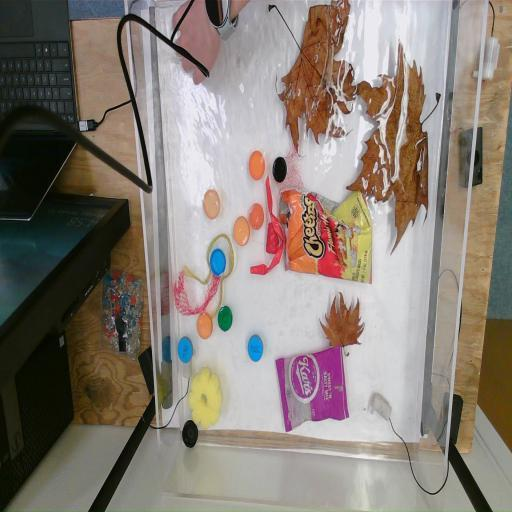Bottle Cap: (200, 190, 222, 222), (248, 150, 265, 180), (233, 216, 250, 246), (196, 312, 213, 340), (248, 202, 264, 230), (247, 334, 263, 362), (218, 305, 234, 333), (182, 420, 198, 448), (178, 336, 192, 362), (272, 158, 286, 184), (212, 251, 226, 276)
Cone Cap: (268, 224, 280, 254)
Leaf: (348, 40, 442, 253), (266, 0, 356, 162), (319, 292, 363, 358)
Netting: (173, 268, 223, 322), (276, 146, 308, 200)
Plastic Bag: (282, 188, 374, 290), (276, 354, 350, 435)
Plastic Strand: (184, 232, 234, 320), (252, 170, 286, 276)
Sponge: (188, 368, 222, 428)
